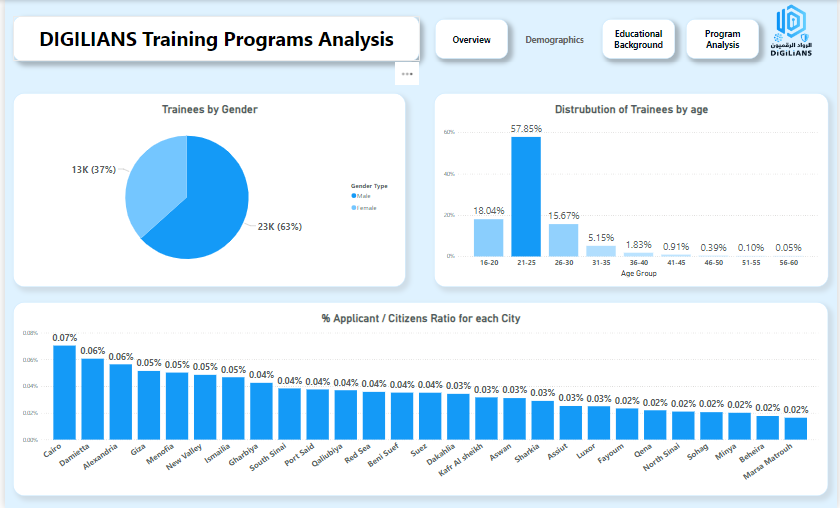

This screenshot's page, from the dashboard's own definition file:
{"tool":"powerbi","page":{"name":"Demographics","canvas":[1800,1100],"ordinal":1},"visuals":[{"type":"pieChart","title":"Trainees by Gender ","fields":{"Category":["Sheet1 (2).Gender Type"],"Y":["Sheet1 (2).Gender Type"]},"box":[18,202,850,420],"z":0},{"type":"clusteredColumnChart","title":"% Applicant / Citizens Ratio for each City","fields":{"Category":["Sheet1.City"],"Y":["Sheet1.applicants/citizens"]},"box":[18.3,653.3,1765,420],"z":1000},{"type":"image","box":[1606.7,0,192.4,132.6],"z":3000},{"type":"actionButton","title":"overview","box":[930.4,41.7,158,86],"z":4000},{"type":"actionButton","title":"overview","box":[1111.7,41.7,158,86],"z":5000},{"type":"actionButton","title":"overview","box":[1293.1,41.7,158,86],"z":6000},{"type":"actionButton","title":"overview","box":[1474.4,41.7,158,86],"z":7000},{"type":"shape","box":[18,34,880,98],"z":8000},{"type":"clusteredColumnChart","title":"Distrubution of Trainees by age","fields":{"Category":["Trainees.age group"],"Y":["Trainees.National Id"]},"box":[930,202,854,420],"z":9000}]}

Visuals, with their boxes in screenshot pixels (x1, y1, x2, y2), scaled from the page's 1800x1100 canvas onto the 840x508 screenshot:
"Trainees by Gender " pieChart: left=8, top=93, right=405, bottom=287
"% Applicant / Citizens Ratio for each City" clusteredColumnChart: left=9, top=302, right=832, bottom=496
image: left=750, top=0, right=839, bottom=61
"overview" actionButton: left=434, top=19, right=508, bottom=59
"overview" actionButton: left=519, top=19, right=593, bottom=59
"overview" actionButton: left=603, top=19, right=677, bottom=59
"overview" actionButton: left=688, top=19, right=762, bottom=59
shape: left=8, top=16, right=419, bottom=61
"Distrubution of Trainees by age" clusteredColumnChart: left=434, top=93, right=833, bottom=287
